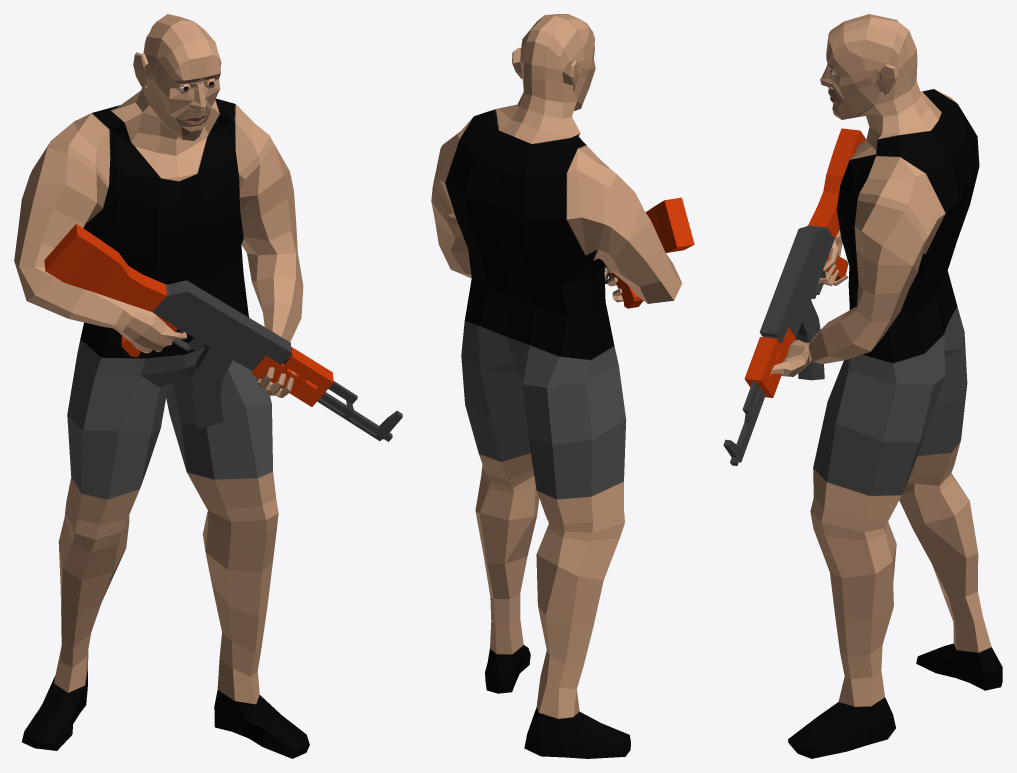
File: PlayerIdle(97).obj
The picture shows the model from 3 angles, left to right: view 1: azimuth 30°, elevation 25°; view 2: azimuth 150°, elevation 25°; view 3: azimuth 270°, elevation 25°; orthographic projection. The views are drawn at different scales.
Visible parts, largest first — view 1: Plane002, Object001; view 2: Plane002, Object001; view 3: Plane002, Object001.
Part boxes in pixels (left/top/right/bottom): Plane002: left=14, top=14, right=309, bottom=758; Object001: left=44, top=223, right=402, bottom=441; Plane002: left=431, top=14, right=682, bottom=758; Object001: left=604, top=197, right=694, bottom=308; Plane002: left=770, top=14, right=1002, bottom=758; Object001: left=723, top=128, right=866, bottom=465.
Bounding box in the file's own units: 758 × 1804 × 656.
